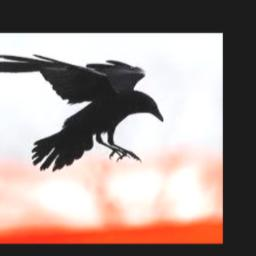Crow: (0, 53, 164, 171)
